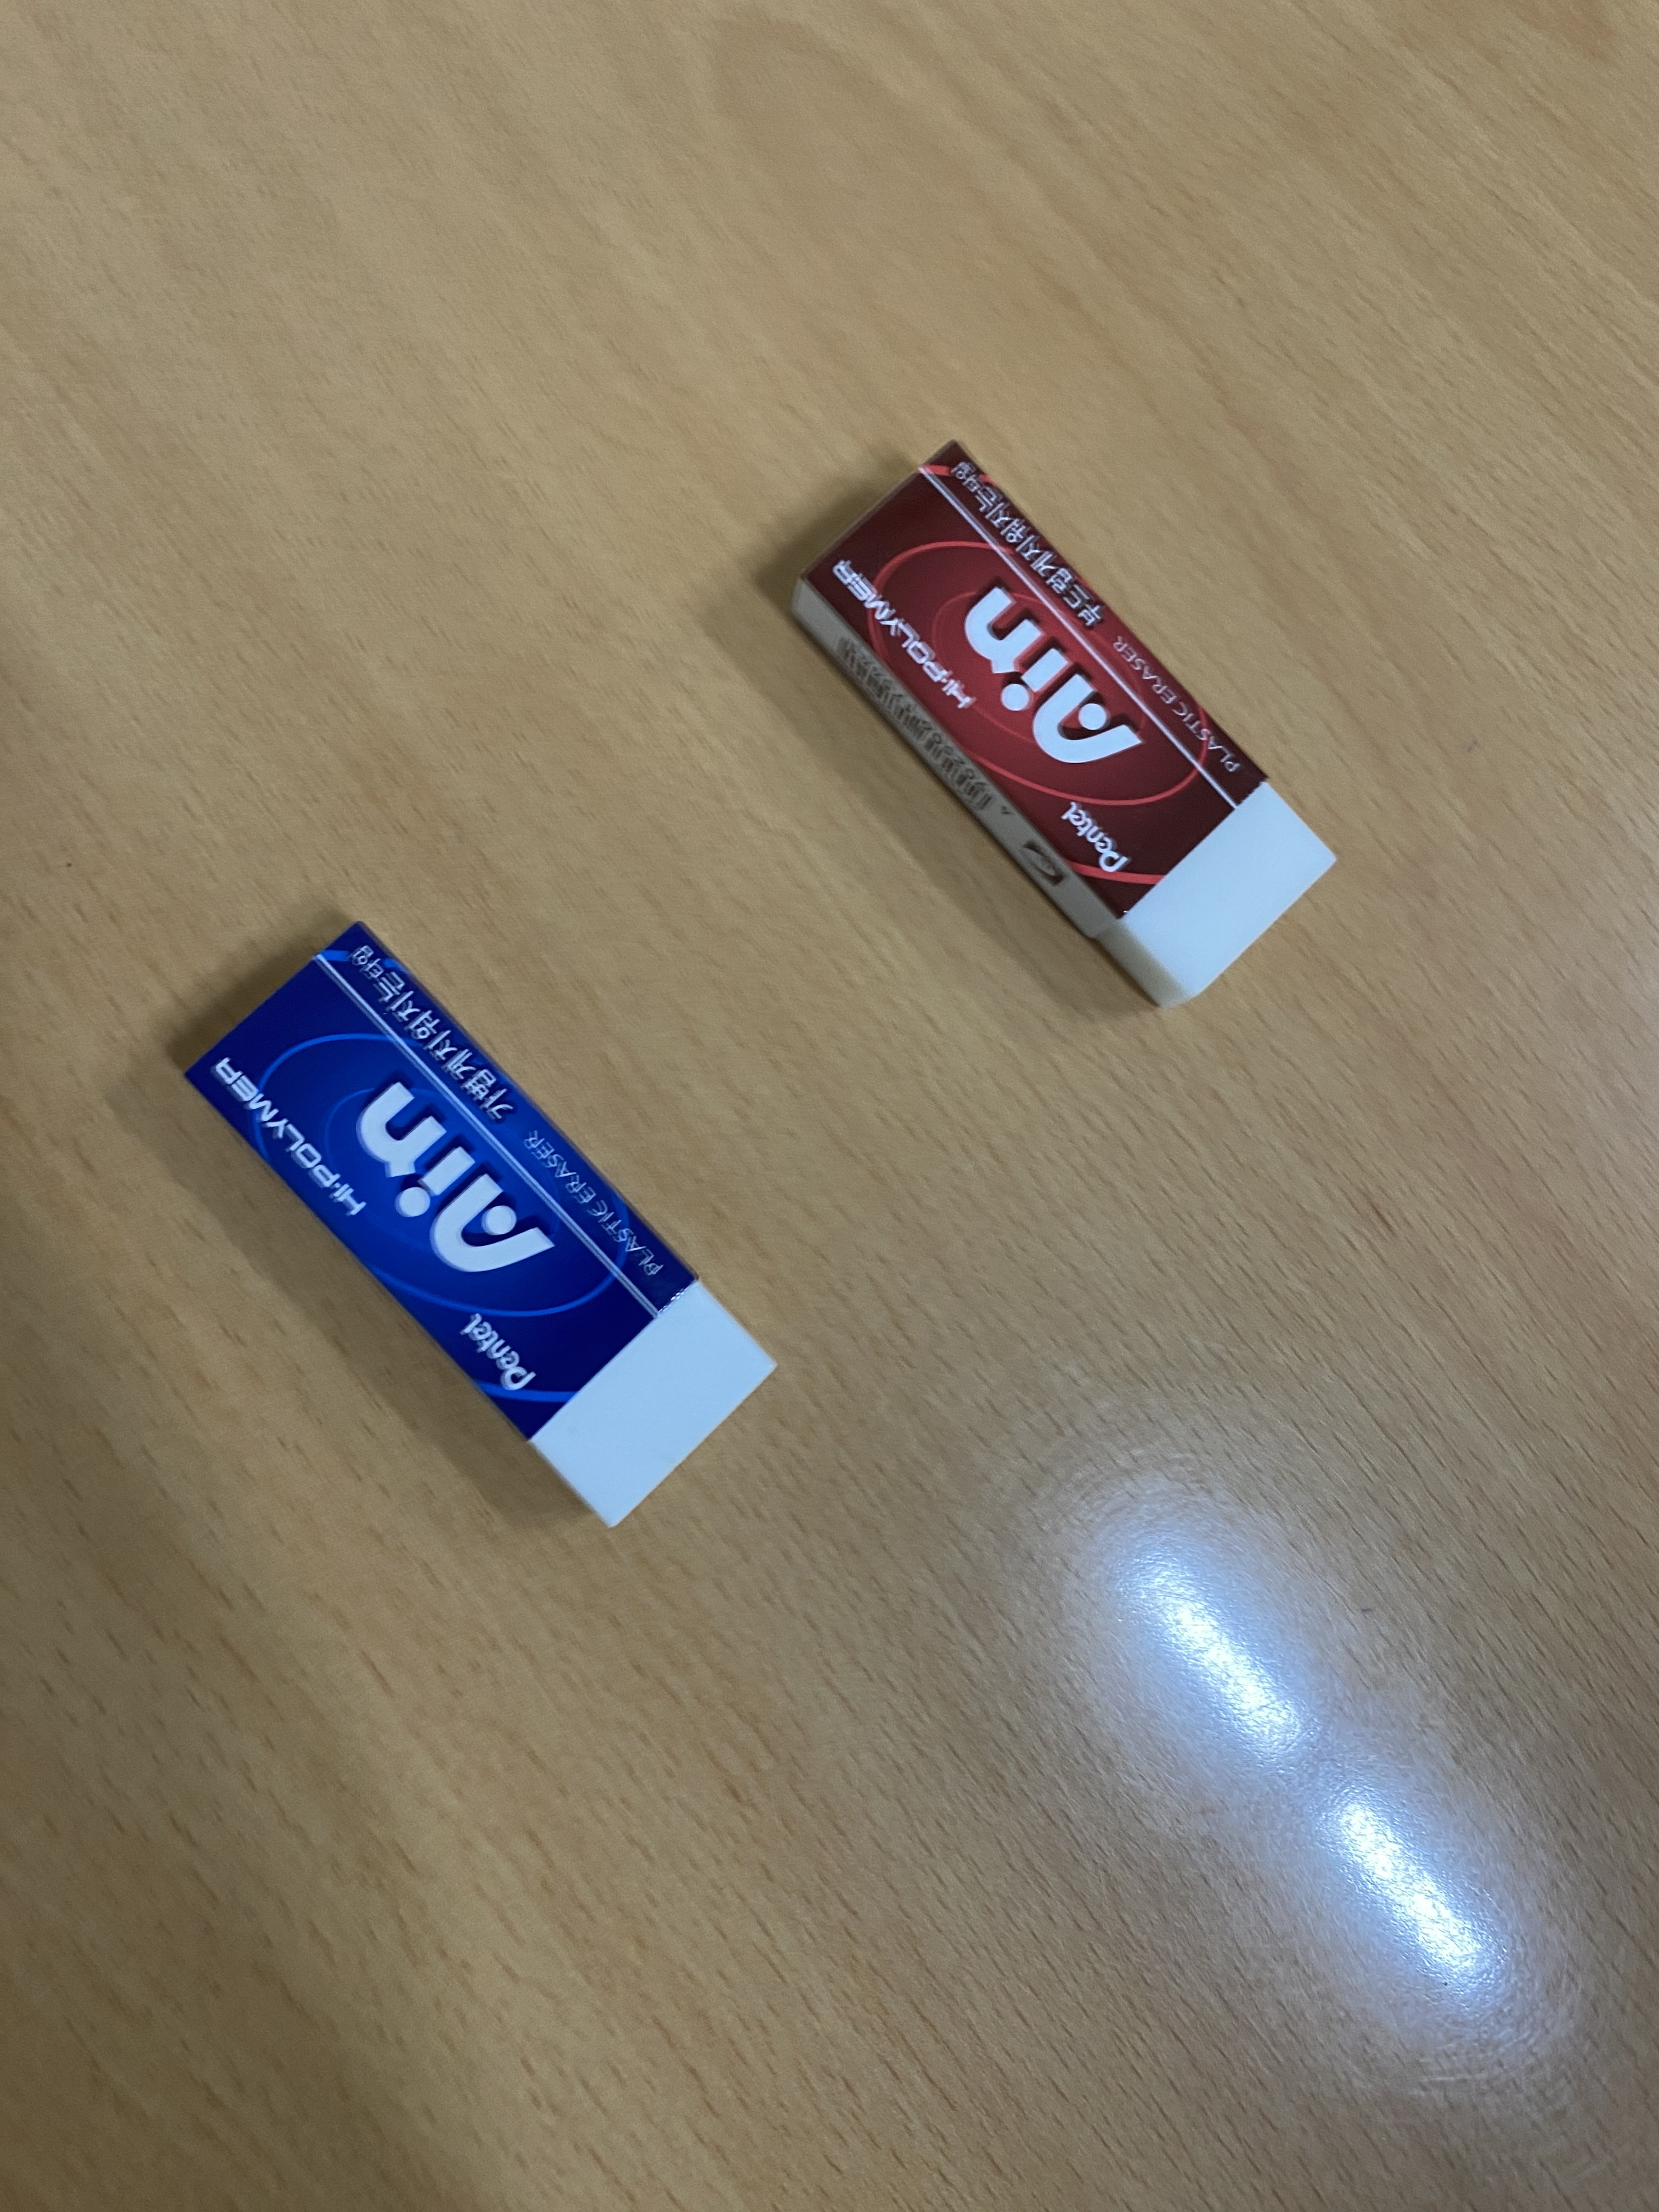blue: (190, 907, 782, 1543)
red: (782, 425, 1349, 1036)
